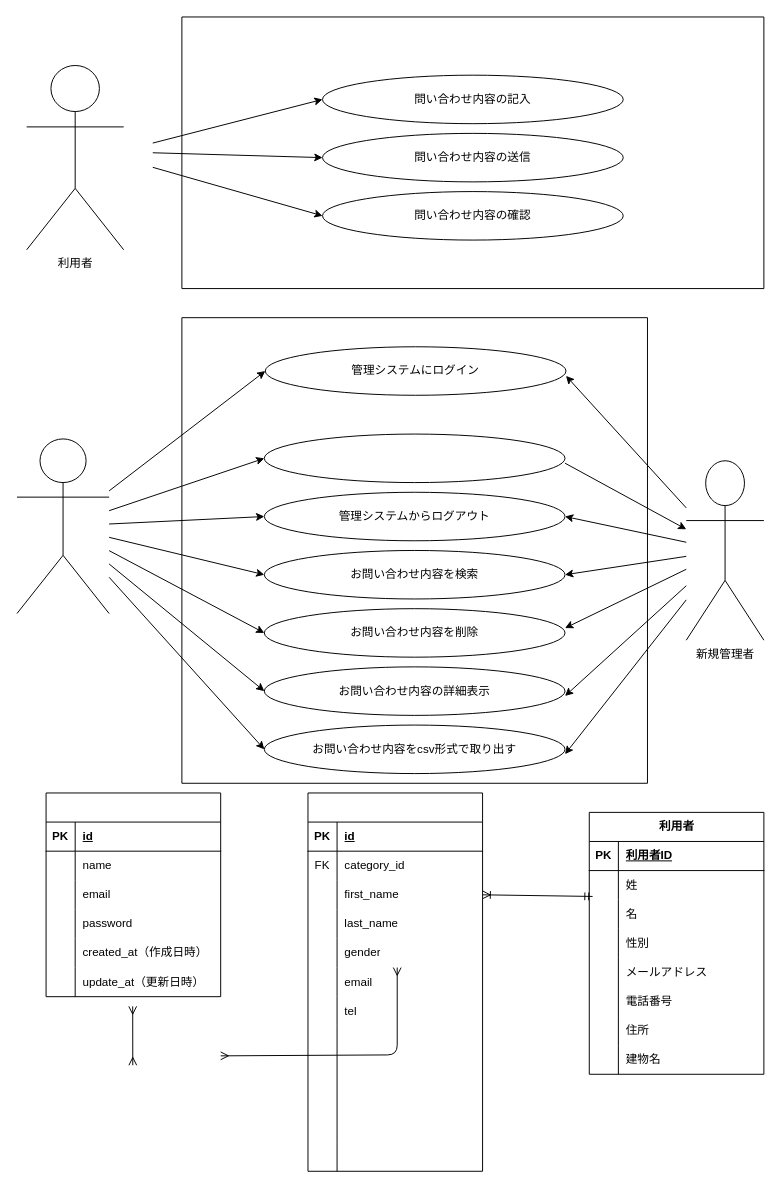
Some shapes in this 781 by 1188 pixel diagram are drawn without their labels. The shapes that lost their labels are listed below. From the top down, each one's box as (x1, y1, x2, y2) in pixels, then its label:
(181, 16, 764, 289): 問い合わせ送信システム
(263, 433, 565, 483): 新規ユーザーの作成・登録
(16, 438, 109, 614): 管理者
(181, 317, 647, 783): 問い合わせ管理システム
(45, 792, 221, 997): users
(307, 792, 483, 1171): contacts
